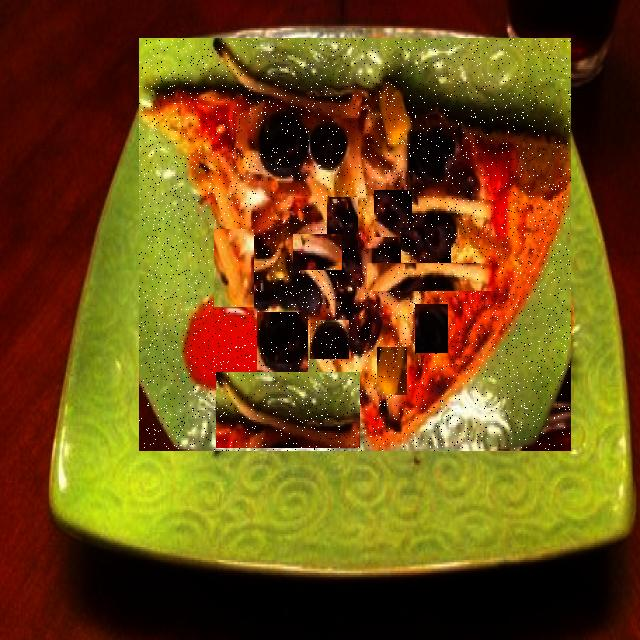Jalapenoes: (377, 347, 407, 395)
Olives: (257, 312, 308, 374), (340, 131, 380, 182), (258, 181, 320, 213), (401, 228, 451, 265), (374, 190, 412, 237), (415, 304, 448, 353), (310, 320, 349, 359), (327, 197, 358, 246)
Onions: (216, 372, 360, 448), (368, 263, 493, 291), (214, 229, 254, 307), (293, 234, 342, 270)
Pizza: (139, 39, 571, 451)
